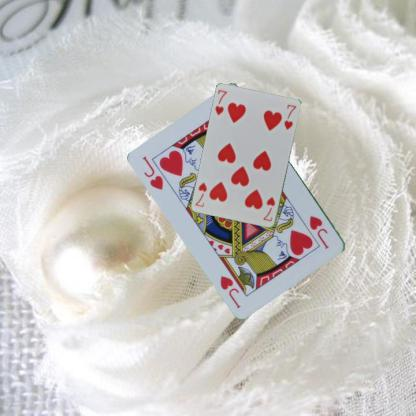7h: (213, 87, 228, 117), (261, 195, 276, 222)
Jh: (140, 153, 165, 191), (307, 213, 331, 251)
